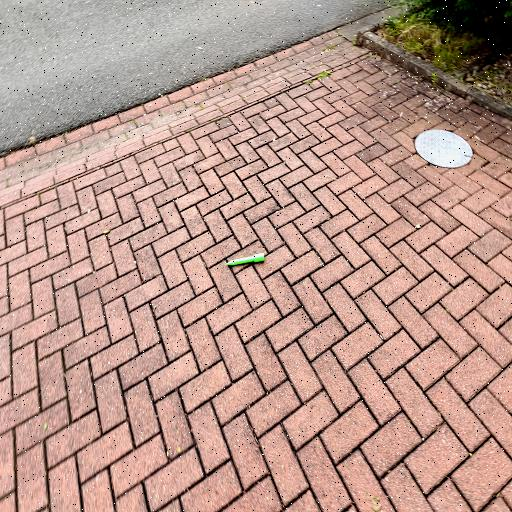Probe-Detection: (226, 253, 264, 265)
